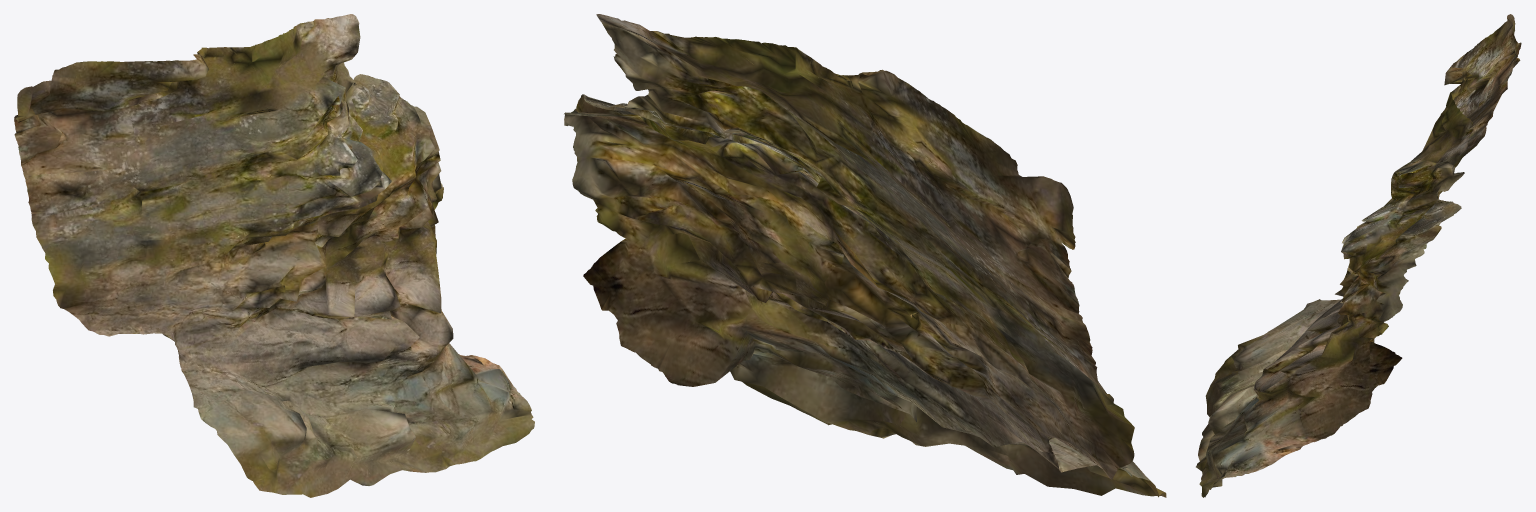
File: rock_face_02.glb
3 views of the same model, side by side, from view 1: azimuth 30°, elevation 25°; view 2: azimuth 150°, elevation 25°; view 3: azimuth 270°, elevation 25° (orthographic). The views are drawn at different scales.
Bounding box in the file's own units: 2.71 × 2.47 × 2.13.
1 material, 1 textured.
